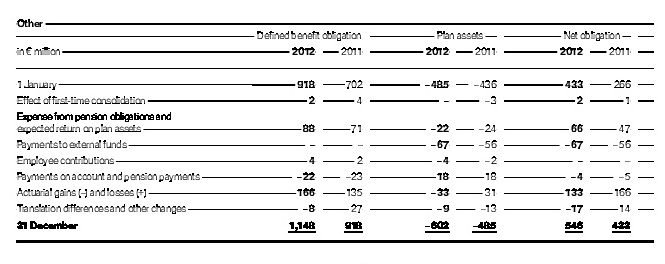table: (0, 0, 665, 264)
